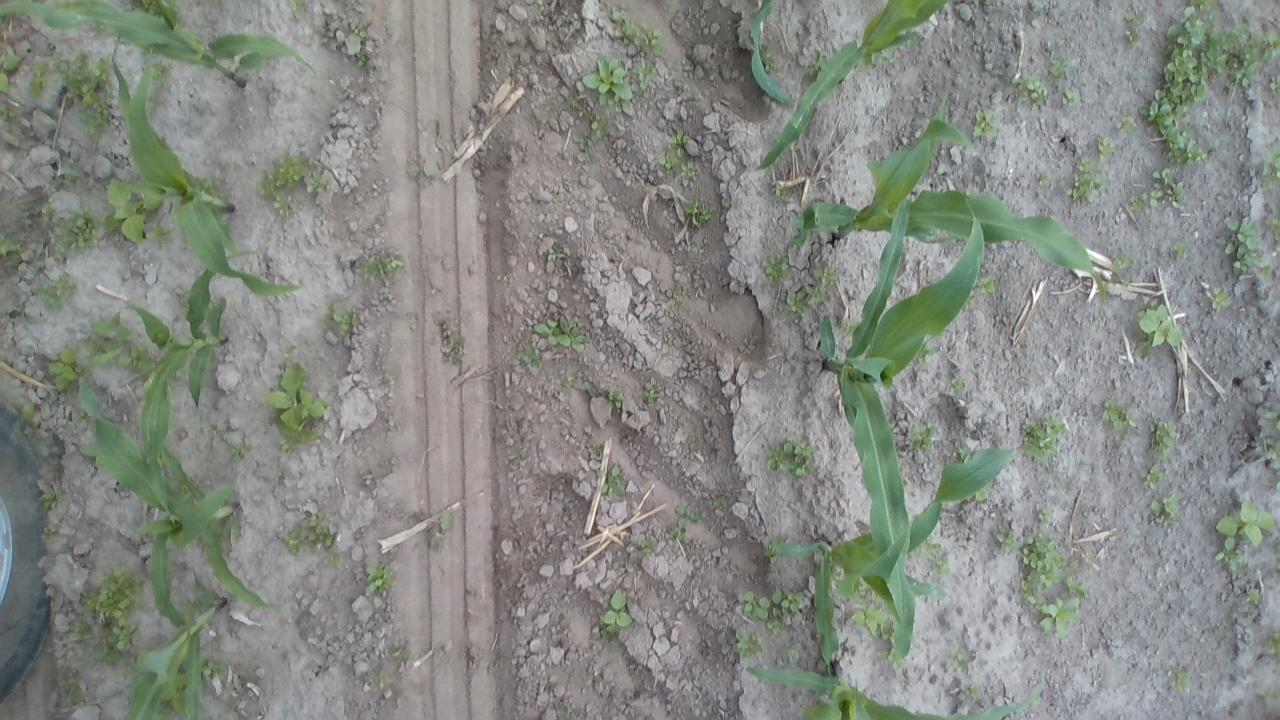Maize: (820, 190, 988, 663), (798, 118, 1114, 304), (778, 442, 1043, 663), (78, 348, 270, 612), (110, 36, 302, 298), (125, 247, 258, 527), (752, 0, 946, 174), (1, 2, 319, 90), (742, 663, 1046, 720), (115, 569, 229, 720), (744, 0, 794, 106)
Weeds: (1141, 0, 1280, 158), (72, 566, 138, 664), (257, 360, 325, 448), (50, 46, 116, 132), (1213, 210, 1272, 280), (86, 312, 152, 370), (1017, 527, 1067, 600), (740, 586, 804, 636), (102, 176, 146, 244), (260, 147, 304, 214), (1218, 500, 1275, 548), (580, 56, 632, 108), (1126, 165, 1188, 208), (49, 207, 101, 256), (1137, 298, 1179, 358), (276, 514, 334, 556), (658, 127, 698, 184), (531, 314, 586, 354), (611, 12, 660, 56), (766, 437, 810, 480), (352, 252, 412, 283), (1068, 156, 1110, 199), (1018, 417, 1067, 452), (602, 590, 634, 643), (1039, 596, 1081, 633), (50, 340, 80, 391), (329, 301, 364, 341), (909, 419, 940, 464), (1015, 70, 1048, 112), (849, 602, 888, 632), (804, 262, 837, 296), (40, 276, 74, 308), (681, 195, 718, 224), (1102, 399, 1138, 428), (1148, 418, 1176, 455), (670, 506, 700, 540), (0, 48, 22, 94), (142, 218, 174, 248), (1152, 494, 1182, 525), (30, 54, 51, 98), (969, 107, 998, 138), (1124, 0, 1142, 48), (22, 200, 52, 228), (1200, 281, 1230, 309), (576, 137, 602, 168), (1265, 415, 1280, 466), (365, 564, 392, 592), (304, 167, 332, 194), (62, 675, 86, 705), (638, 56, 658, 92), (600, 463, 621, 494), (1262, 146, 1278, 186), (1142, 464, 1164, 492), (786, 290, 808, 316), (550, 94, 580, 113), (738, 636, 766, 656), (999, 528, 1018, 556), (767, 255, 790, 278), (205, 654, 227, 678), (1033, 505, 1064, 522), (517, 345, 542, 366), (0, 233, 19, 259), (951, 650, 970, 676), (1060, 82, 1082, 104), (1112, 249, 1137, 268), (44, 520, 63, 544), (590, 115, 614, 134), (1049, 60, 1069, 82), (348, 23, 368, 44), (1175, 670, 1194, 692), (784, 640, 804, 660), (22, 404, 40, 424), (953, 442, 973, 460), (1064, 578, 1086, 594), (509, 448, 530, 464), (763, 48, 778, 70), (932, 556, 950, 574), (1097, 135, 1115, 153), (42, 488, 58, 507), (322, 554, 341, 570), (1118, 115, 1134, 134), (966, 684, 986, 699), (1265, 74, 1280, 94), (948, 379, 969, 393), (606, 392, 624, 408), (704, 494, 726, 507), (777, 185, 796, 200), (1170, 240, 1189, 255), (377, 669, 388, 694), (0, 104, 17, 120), (980, 276, 995, 294), (809, 50, 820, 74), (439, 512, 453, 530), (1266, 212, 1279, 231), (640, 542, 656, 557), (559, 374, 575, 388), (282, 347, 299, 360), (766, 543, 779, 560), (1270, 634, 1280, 656), (1246, 584, 1258, 602), (546, 248, 561, 262), (642, 388, 658, 401), (389, 647, 405, 660), (924, 536, 941, 548), (228, 447, 245, 459), (674, 286, 685, 304), (384, 372, 398, 384), (1038, 170, 1049, 182)
